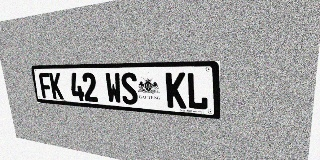2: (81, 73, 98, 102)
4: (69, 73, 85, 101)
F: (38, 73, 53, 99)
K: (165, 72, 186, 109), (49, 73, 64, 99)
L: (186, 72, 208, 110)
S: (120, 72, 138, 105)
W: (105, 72, 122, 104)
